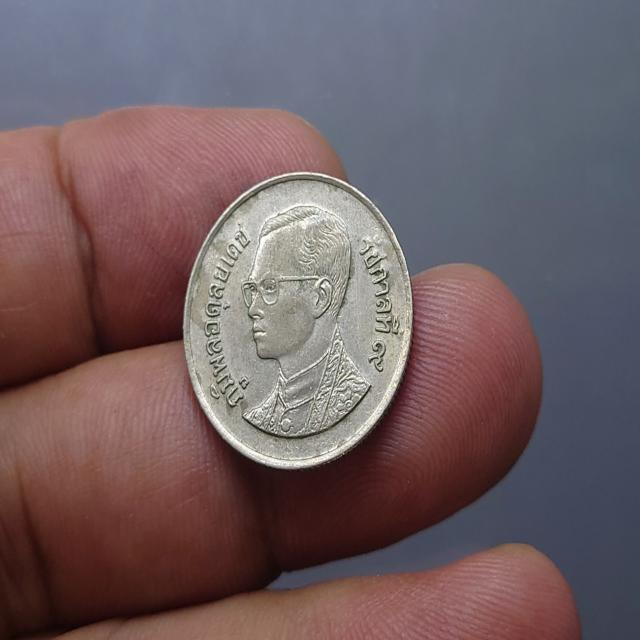1 Bath: (177, 164, 422, 479)
